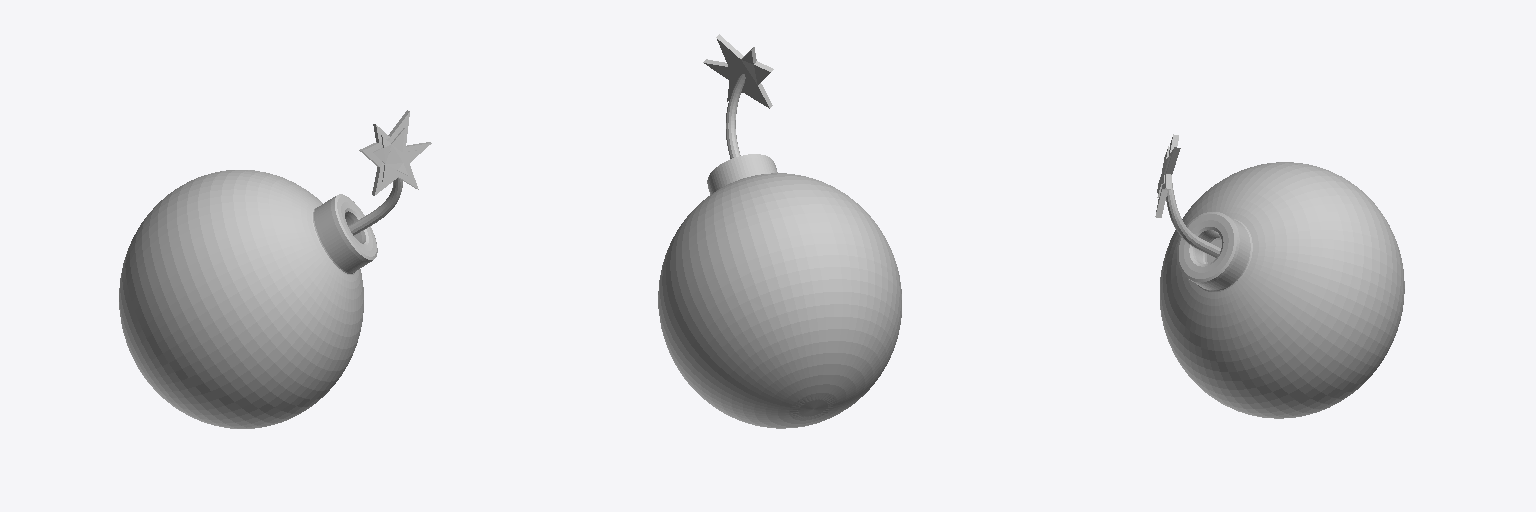
File: Bomb.obj
The picture shows the model from 3 angles: view 1: azimuth 30°, elevation 25°; view 2: azimuth 150°, elevation 25°; view 3: azimuth 270°, elevation 25°; orthographic projection.
Visible parts, largest first — view 1: Plane.004; view 2: Plane.004; view 3: Plane.004.
Boxes of the visible parts, box(x1,y1,x2,y2) form: Plane.004: box(119, 110, 431, 428); Plane.004: box(658, 34, 901, 428); Plane.004: box(1155, 134, 1404, 418).
Size of the model in its own units: 0.3342 by 0.4248 by 0.3027.